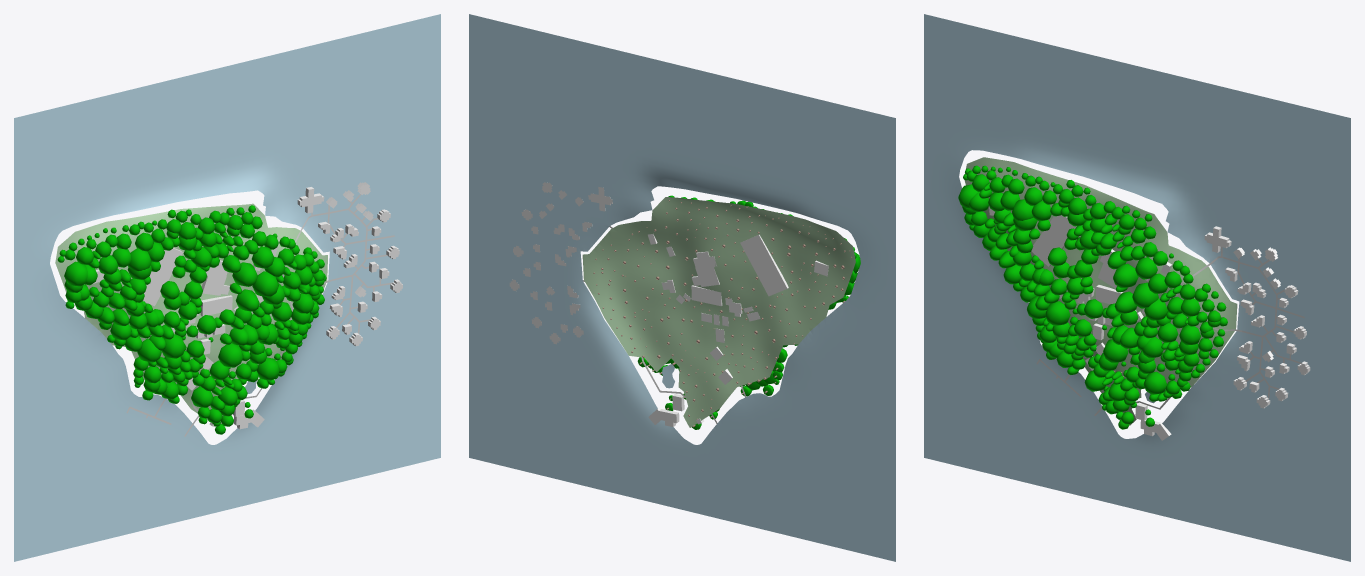
Rendered from town.glb.
3 views of the same model, side by side, from view 1: azimuth 30°, elevation 25°; view 2: azimuth 150°, elevation 25°; view 3: azimuth 330°, elevation 25° (orthographic).
Parts seen in each view (by area): view 1: TPX_Waterways_2, TPX_Buildings, TPX_GreenAreas, TPX_RoadsOutlines; view 2: TPX_Waterways_2, TPX_GreenAreas, TPX_Buildings; view 3: TPX_Waterways_2, TPX_GreenAreas, TPX_Buildings, TPX_RoadsOutlines.
Boxes of the visible parts, x1,y1,x2,y2 form: TPX_Waterways_2: (14,14,440,561); TPX_Buildings: (93,182,402,429); TPX_GreenAreas: (55,203,327,423); TPX_RoadsOutlines: (126,194,394,436); TPX_Waterways_2: (469,14,895,561); TPX_GreenAreas: (582,197,855,427); TPX_Buildings: (509,182,828,426); TPX_Waterways_2: (924,14,1350,561); TPX_GreenAreas: (964,157,1237,425); TPX_Buildings: (989,206,1310,440); TPX_RoadsOutlines: (1036,247,1304,415).
Size of the model in its own units: 552 by 548 by 53.93.
